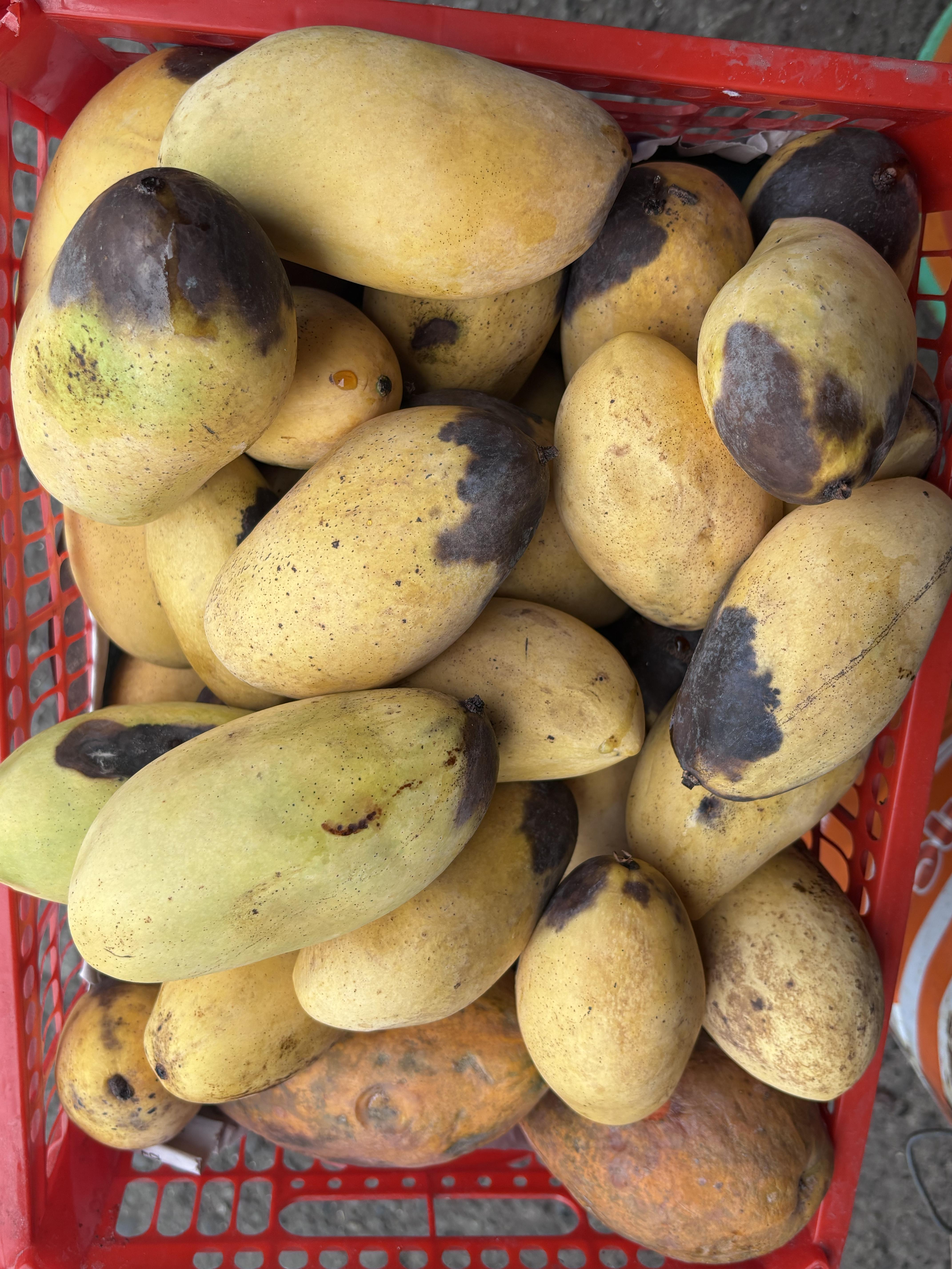mango: (11, 168, 296, 525), (670, 478, 952, 800)
